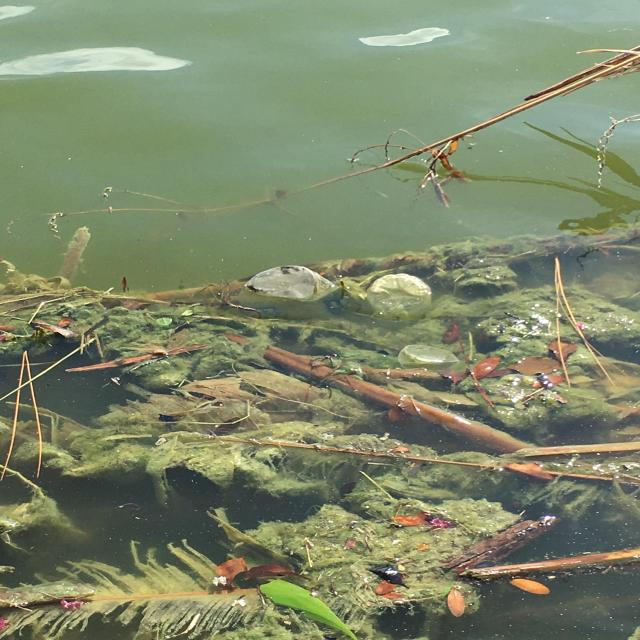litter: (239, 266, 341, 310), (365, 273, 432, 321), (401, 345, 458, 363)
